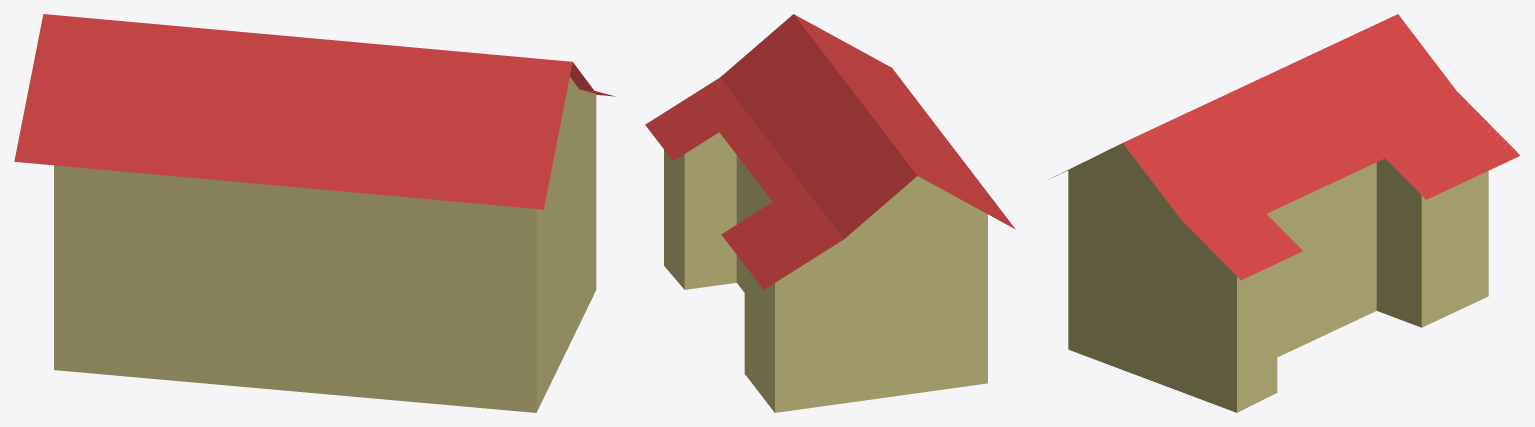
3 views of the same model, side by side, from view 1: azimuth 30°, elevation 25°; view 2: azimuth 150°, elevation 25°; view 3: azimuth 270°, elevation 25° (orthographic). The views are drawn at different scales.
Size of the model in its own units: 27.51 by 27.15 by 14.68.
